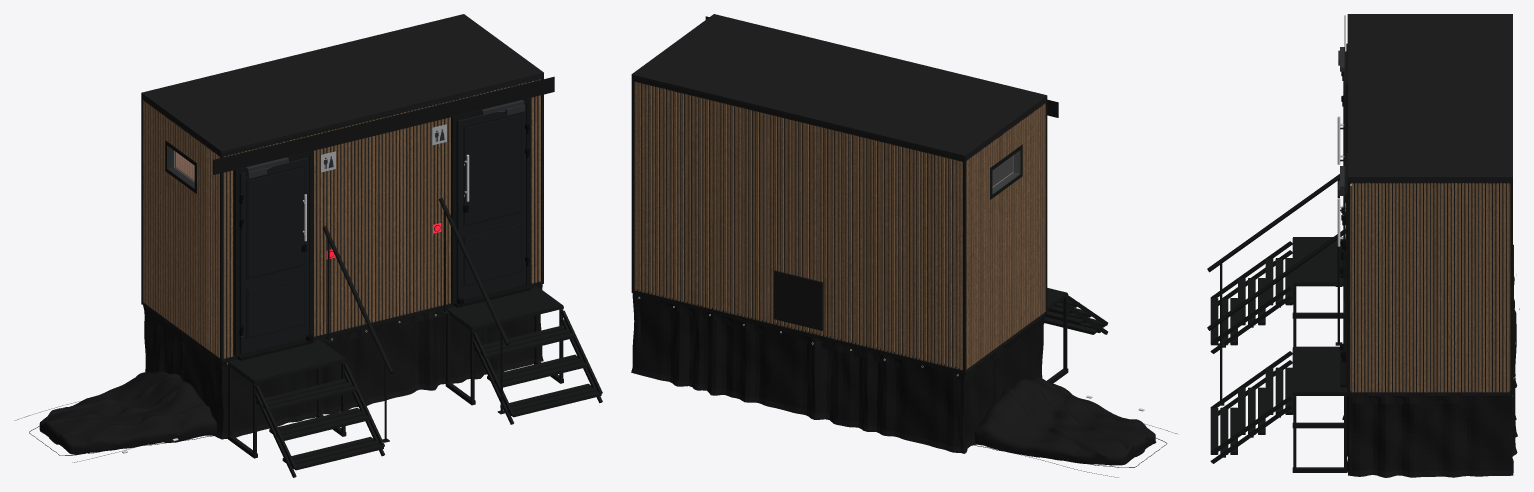
File: WC2_B-5bda0cfd3e64.glb
3 views of the same model, side by side, from view 1: azimuth 30°, elevation 25°; view 2: azimuth 150°, elevation 25°; view 3: azimuth 270°, elevation 25° (orthographic). The views are drawn at different scales.
Visible parts, largest first — view 1: WC2_Slats_Front, WC2_ROOF_Roof_slab, WC2_SKIRT_Fitted_continuous_technical_fabric, WC2_Slats_End, TENT_cover, WC2_SHELL_Central_front_panel, FIX_topcover, DoorUnit_L_Inset_panel_001, DoorUnit_R_Inset_panel_001, WC2_Stair_02, DoorUnit_L_Opaque_leaf, DoorUnit_R_Opaque_leaf (+14 smaller); view 2: WC2_Slats_Rear, WC2_SKIRT_Fitted_continuous_technical_fabric, WC2_ROOF_Roof_slab, WC2_SHELL_Back_structural_panel, WC2_Slats_End, TENT_cover, WC2_SHELL_Rear_service_hatch_inferred, WC2_SHELL_Rear_perimeter_rail0.823, WC2_SHELL_Corner_trim.001, WC2_SHELL_Rear_perimeter_rail2.956, WC2_SHELL_Corner_trim.003, WC2_SHELL_Floor_deck (+3 smaller); view 3: WC2_Slats_End, WC2_ROOF_Roof_slab, WC2_SHELL_End_structural_panel1, WC2_SKIRT_Fitted_continuous_technical_fabric, WC2_Stair_02, WC2_Stair_02_Stair_Landing_Plate, Stair_Landing_Plate, WC2_SHELL_Corner_trim.002, WC2_Stair_02_Stair_Handrail, Stair_Handrail, WC2_SHELL_Lower_end_closure_profile_1.001, WC2_SHELL_Corner_trim.003 (+13 smaller).
Part boxes in pixels (left/top/right/bottom): WC2_Slats_Front: left=223, top=79, right=540, bottom=358; WC2_ROOF_Roof_slab: left=141, top=14, right=543, bottom=156; WC2_SKIRT_Fitted_continuous_technical_fabric: left=143, top=284, right=543, bottom=439; WC2_Slats_End: left=143, top=100, right=219, bottom=357; TENT_cover: left=39, top=371, right=217, bottom=454; WC2_SHELL_Central_front_panel: left=316, top=118, right=447, bottom=334; FIX_topcover: left=213, top=76, right=554, bottom=174; DoorUnit_L_Inset_panel_001: left=248, top=167, right=303, bottom=277; DoorUnit_R_Inset_panel_001: left=464, top=114, right=520, bottom=224; WC2_Stair_02: left=473, top=325, right=601, bottom=417; DoorUnit_L_Opaque_leaf: left=239, top=157, right=309, bottom=354; DoorUnit_R_Opaque_leaf: left=456, top=104, right=525, bottom=299; WC2_Slats_Rear: left=634, top=82, right=962, bottom=369; WC2_SKIRT_Fitted_continuous_technical_fabric: left=631, top=293, right=1045, bottom=453; WC2_ROOF_Roof_slab: left=631, top=14, right=1047, bottom=161; WC2_SHELL_Back_structural_panel: left=637, top=83, right=959, bottom=367; WC2_Slats_End: left=966, top=103, right=1045, bottom=369; TENT_cover: left=975, top=377, right=1156, bottom=465; WC2_SHELL_Rear_service_hatch_inferred: left=773, top=270, right=822, bottom=330; WC2_SHELL_Rear_perimeter_rail0.823: left=631, top=290, right=965, bottom=373; WC2_SHELL_Corner_trim.001: left=962, top=157, right=966, bottom=373; WC2_SHELL_Rear_perimeter_rail2.956: left=631, top=77, right=965, bottom=161; WC2_SHELL_Corner_trim.003: left=631, top=76, right=634, bottom=290; WC2_SHELL_Floor_deck: left=666, top=305, right=1044, bottom=382; WC2_Slats_End: left=1351, top=183, right=1509, bottom=392; WC2_ROOF_Roof_slab: left=1347, top=14, right=1512, bottom=183; WC2_SHELL_End_structural_panel1: left=1354, top=183, right=1506, bottom=390; WC2_SKIRT_Fitted_continuous_technical_fabric: left=1342, top=276, right=1517, bottom=477; WC2_Stair_02: left=1210, top=367, right=1293, bottom=454; WC2_Stair_02_Stair_Landing_Plate: left=1293, top=346, right=1347, bottom=393; Stair_Landing_Plate: left=1293, top=237, right=1345, bottom=283; WC2_SHELL_Corner_trim.002: left=1347, top=178, right=1350, bottom=394; WC2_Stair_02_Stair_Handrail: left=1207, top=229, right=1345, bottom=330; Stair_Handrail: left=1207, top=174, right=1339, bottom=272; WC2_SHELL_Lower_end_closure_profile_1.001: left=1351, top=389, right=1509, bottom=396; WC2_SHELL_Corner_trim.003: left=1510, top=178, right=1512, bottom=394.
Bounding box in the file's own units: 5.1 × 3 × 2.84.
59 materials, 3 textured.
